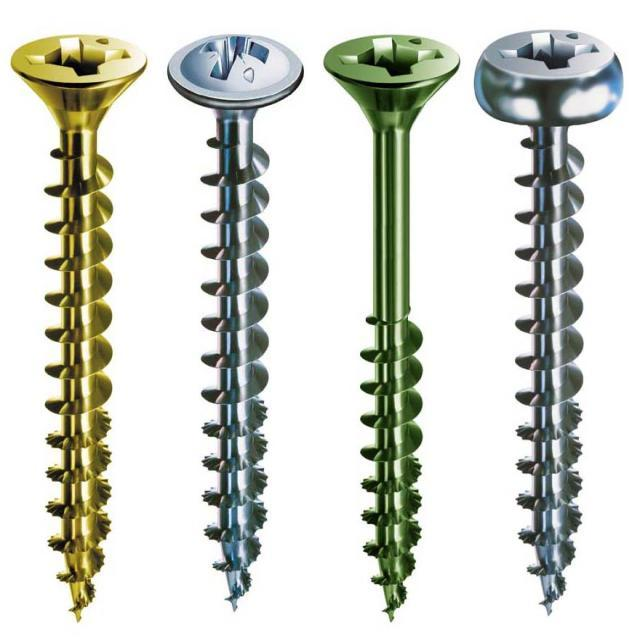Dry Waste: (472, 6, 639, 640), (158, 9, 314, 636), (0, 0, 150, 640), (318, 25, 459, 616)
